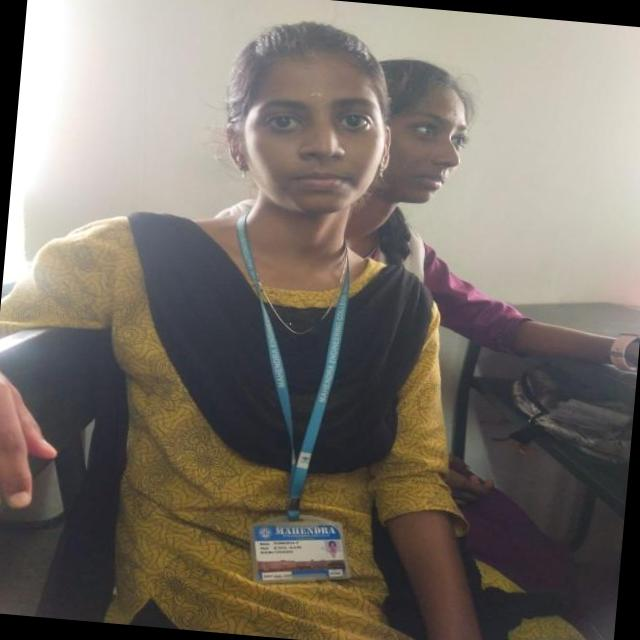id_card: (212, 195, 378, 586)
